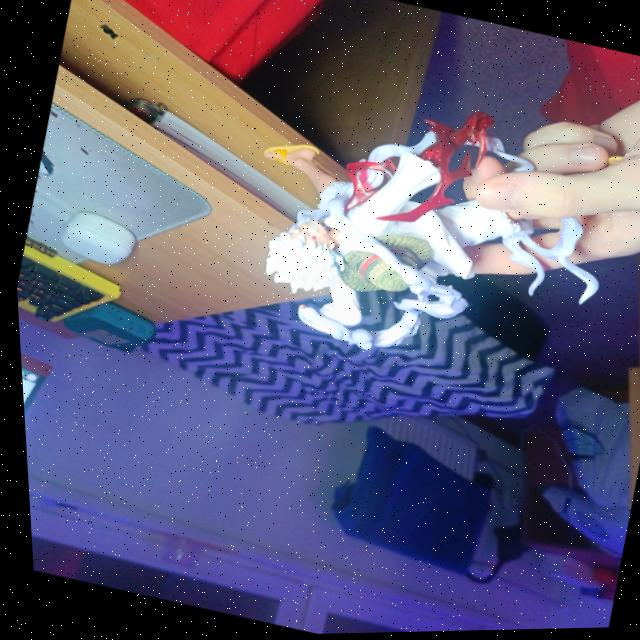luffy: (213, 76, 629, 406)
